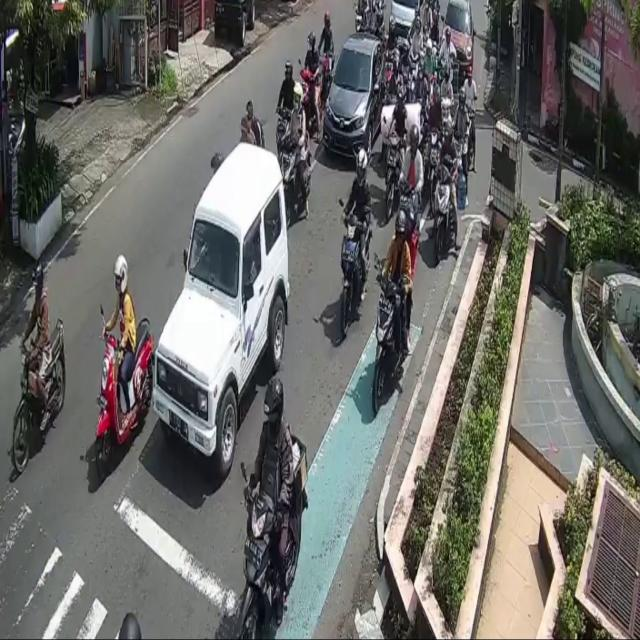car: (153, 141, 291, 475), (324, 31, 384, 169), (442, 0, 472, 84)
motorbike: (95, 315, 154, 484), (238, 495, 302, 640), (14, 316, 66, 468), (340, 208, 371, 342), (373, 272, 398, 422), (281, 134, 310, 220), (434, 162, 452, 275), (385, 130, 400, 223)
